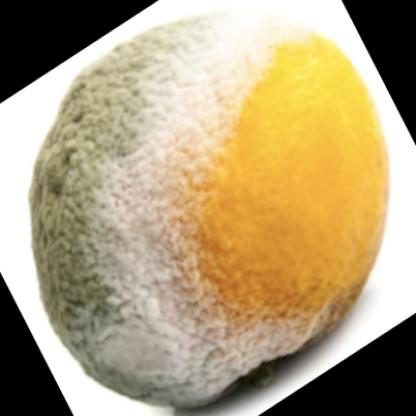rotten: (32, 10, 393, 409)
